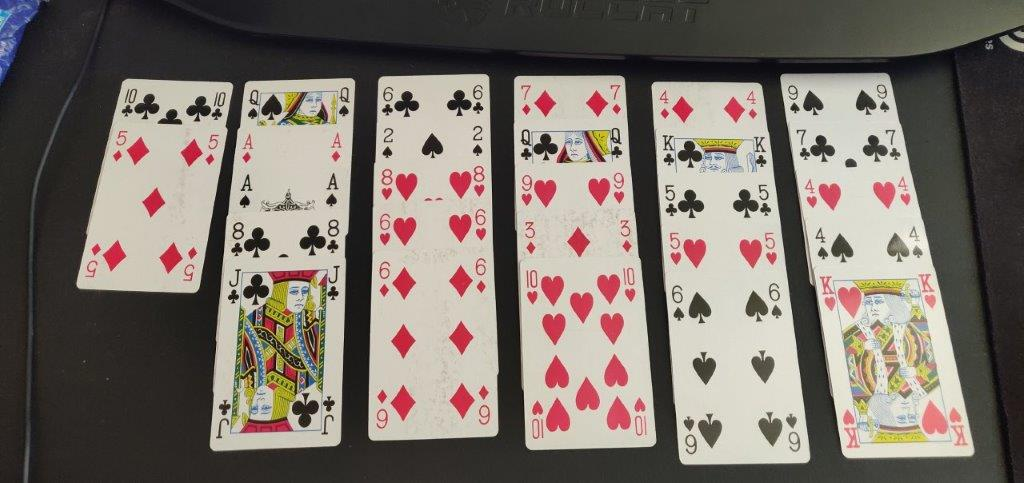10C: (121, 87, 138, 119), (209, 91, 227, 121)
10H: (621, 267, 638, 306), (523, 268, 540, 306)
2S: (379, 126, 397, 160), (470, 124, 485, 158)
3D: (521, 220, 540, 257), (616, 218, 633, 256)
4D: (656, 88, 673, 122), (745, 89, 760, 123)
4H: (802, 177, 820, 212), (896, 174, 914, 208)
4S: (813, 225, 831, 264), (908, 224, 925, 264)
5C: (661, 183, 679, 220), (756, 183, 774, 218)
5D: (111, 129, 130, 164), (204, 132, 221, 168)
5H: (761, 231, 781, 268), (665, 231, 684, 267)
6C: (379, 86, 395, 118), (471, 83, 485, 117)
6D: (377, 260, 392, 299), (474, 257, 488, 294)
6H: (377, 212, 393, 248), (474, 206, 489, 243)
6S: (767, 282, 785, 322), (670, 283, 687, 324)
7C: (883, 127, 905, 164), (793, 127, 812, 162)
7D: (608, 83, 625, 118), (517, 83, 533, 117)
8C: (326, 218, 342, 256), (229, 220, 245, 257)
8H: (378, 168, 396, 201), (472, 164, 487, 199)
9H: (611, 172, 629, 206), (520, 174, 534, 207)
9S: (875, 82, 892, 117), (785, 84, 803, 117)
AD: (240, 131, 257, 169), (328, 130, 345, 163)
AS: (325, 170, 341, 209), (238, 172, 254, 210)
JC: (225, 268, 242, 309), (326, 265, 343, 304)
KC: (659, 133, 679, 169), (752, 135, 769, 168)
KH: (917, 271, 940, 311), (817, 274, 839, 313)
QC: (517, 127, 534, 163), (609, 126, 625, 163)
QS: (245, 88, 263, 122), (337, 85, 352, 120)
